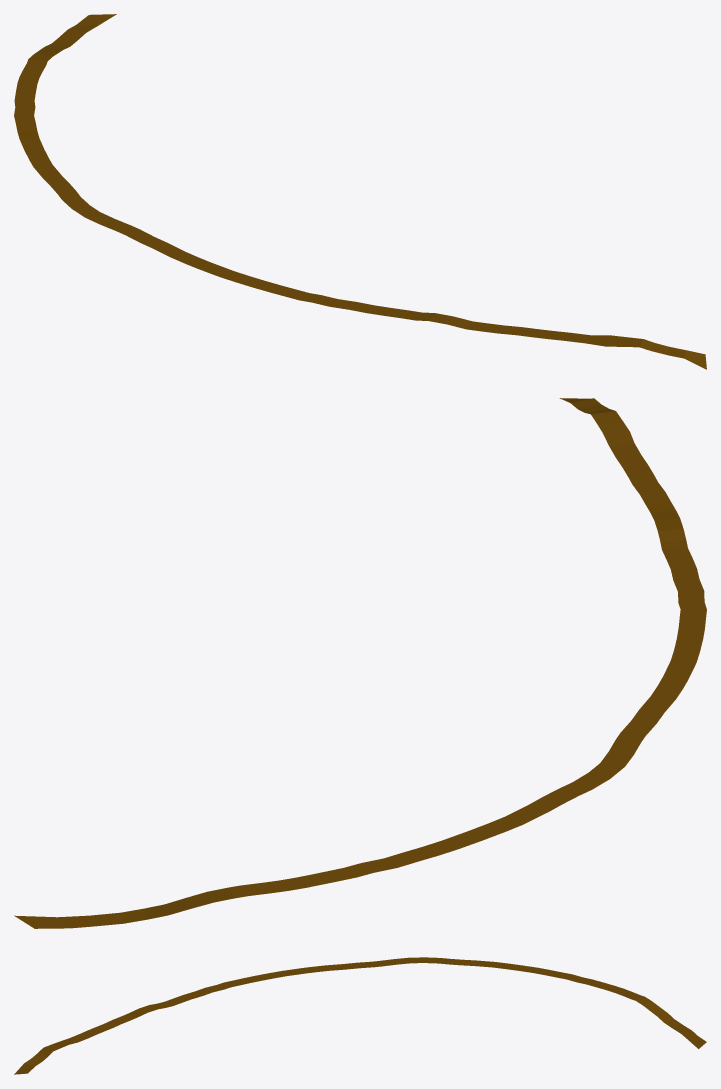
File: col_carisle_mid_dirtpath_00.fbx
3 views of the same model, one above another, from view 1: azimuth 30°, elevation 25°; view 2: azimuth 150°, elevation 25°; view 3: azimuth 270°, elevation 25° (orthographic). The views are drawn at different scales.
Visible parts, largest first — view 1: col_carisle_mid_dirtpath_00; view 2: col_carisle_mid_dirtpath_00; view 3: col_carisle_mid_dirtpath_00.
Boxes of the visible parts, <box> form: col_carisle_mid_dirtpath_00: <box>14,14,706,369</box>; col_carisle_mid_dirtpath_00: <box>14,398,706,928</box>; col_carisle_mid_dirtpath_00: <box>14,957,706,1074</box>.
Bounding box in the file's own units: 38.65 × 103 × 1.96.
